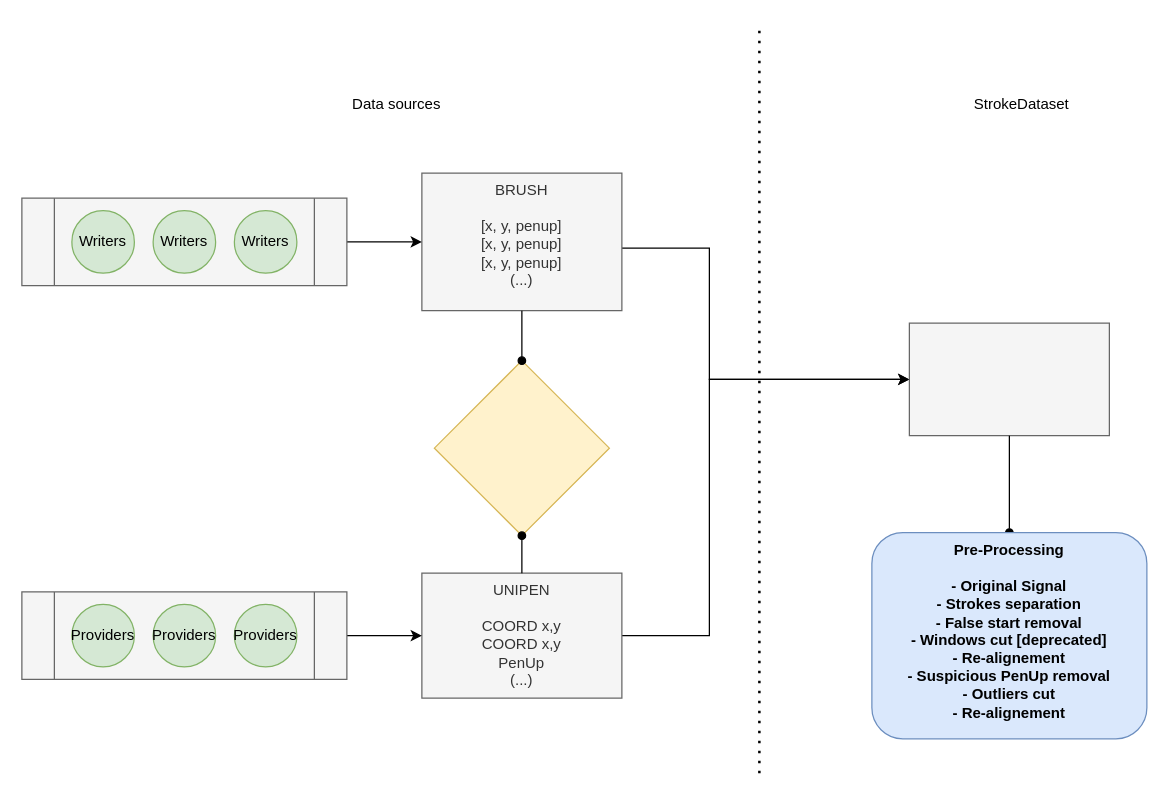
Some shapes in this 1169 by 796 pixel diagram are drawn without their labels. Each missing label, with the box of its shape:
Parsing Alignement Quantization Re-sampling: (433, 359, 609, 536)
StrokeDataset (x,y) (x,y) (...): (908, 322, 1109, 436)
